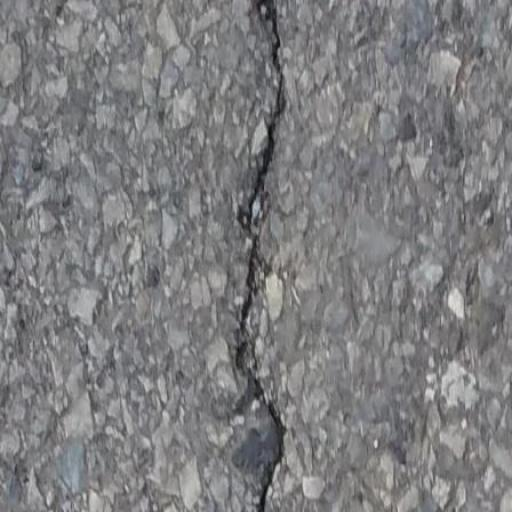spalling: (231, 5, 300, 512)
